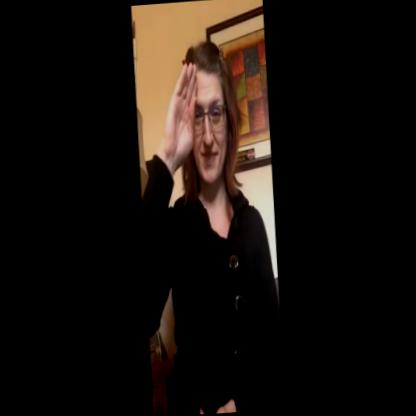Hello: (145, 15, 243, 215)
